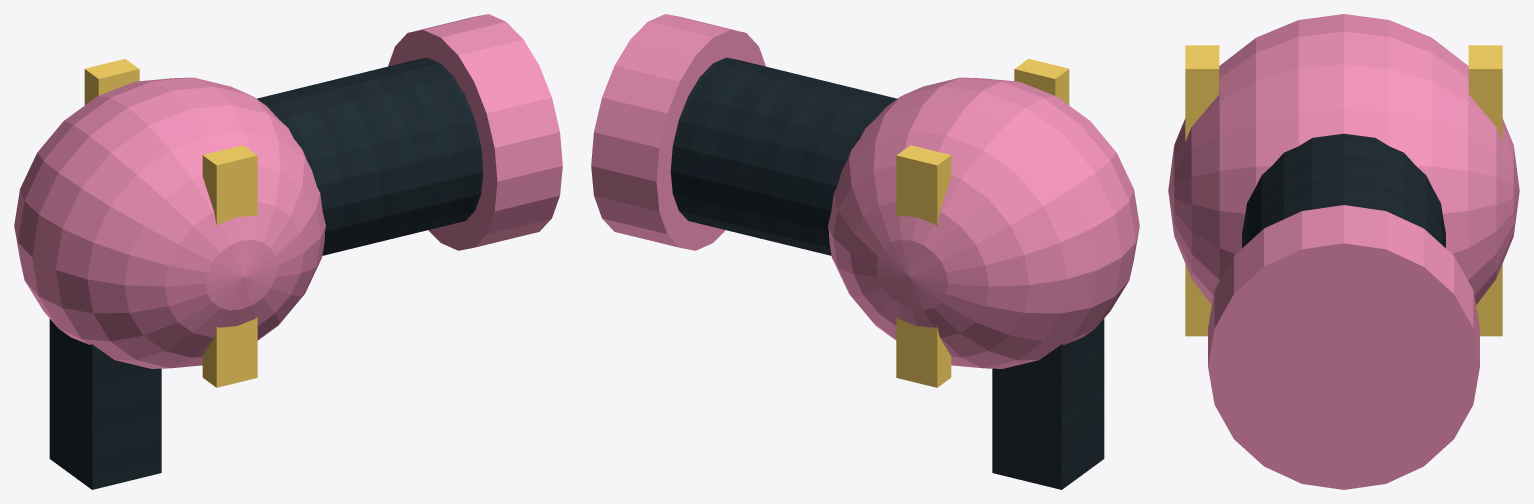
The model's file is bp_weaponbloom.glb.
3 renders of one model, left to right at view 1: azimuth 30°, elevation 25°; view 2: azimuth 150°, elevation 25°; view 3: azimuth 270°, elevation 25°, orthographic. The views are drawn at different scales.
Parts seen in each view (by area): view 1: Drum, Barrel, Muzzle.001, Grip.002, DrumRib.001, DrumRib; view 2: Drum, Barrel, Muzzle.001, Grip.002, DrumRib, DrumRib.001; view 3: Muzzle.001, Drum, Barrel, DrumRib, DrumRib.001.
Part boxes in pixels (bbox=[...]): Drum: bbox=[14, 77, 325, 368]; Barrel: bbox=[257, 57, 483, 255]; Muzzle.001: bbox=[388, 14, 562, 250]; Grip.002: bbox=[49, 319, 161, 489]; DrumRib.001: bbox=[202, 145, 257, 387]; DrumRib: bbox=[84, 58, 139, 105]; Drum: bbox=[828, 77, 1139, 368]; Barrel: bbox=[670, 57, 896, 255]; Muzzle.001: bbox=[591, 14, 765, 250]; Grip.002: bbox=[992, 319, 1104, 489]; DrumRib: bbox=[896, 145, 951, 387]; DrumRib.001: bbox=[1014, 58, 1069, 105]; Muzzle.001: bbox=[1208, 205, 1479, 489]; Drum: bbox=[1168, 14, 1519, 304]; Barrel: bbox=[1242, 133, 1445, 247]; DrumRib: bbox=[1468, 45, 1502, 336]; DrumRib.001: bbox=[1185, 45, 1219, 336].
Bounding box in the file's own units: 1.16 × 0.84 × 0.62.
Materials: 3 (1 with a texture image).
